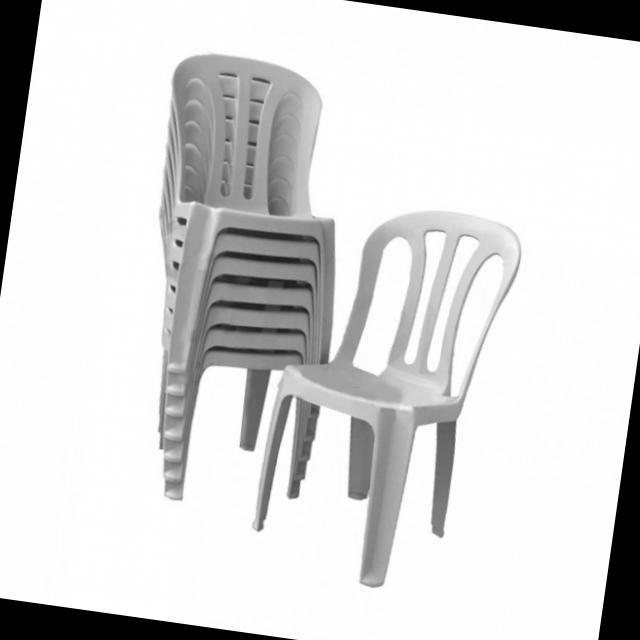chair: (108, 44, 376, 524), (241, 184, 536, 610)
